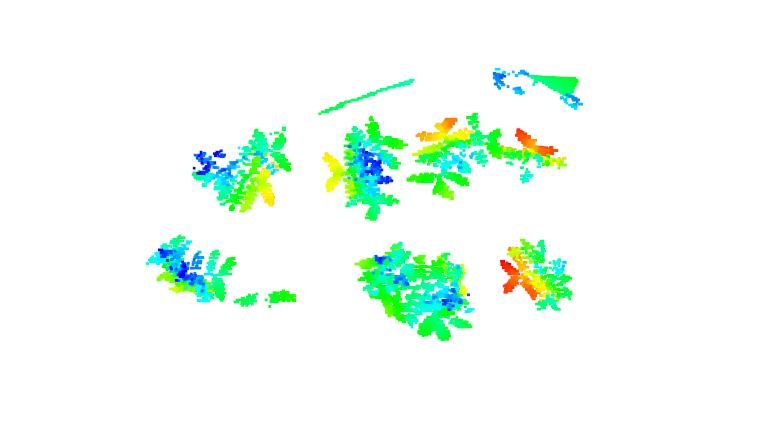chickpea: (361, 241, 475, 343), (189, 128, 294, 213), (322, 116, 407, 220), (408, 112, 505, 200), (145, 234, 237, 303), (500, 236, 576, 313), (498, 127, 570, 184), (229, 290, 300, 309)
